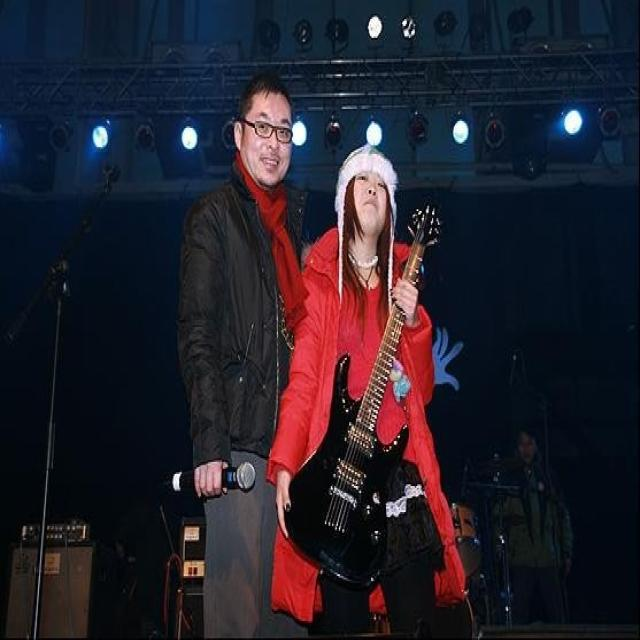drums: (436, 441, 531, 640)
guitar: (281, 194, 445, 589)
